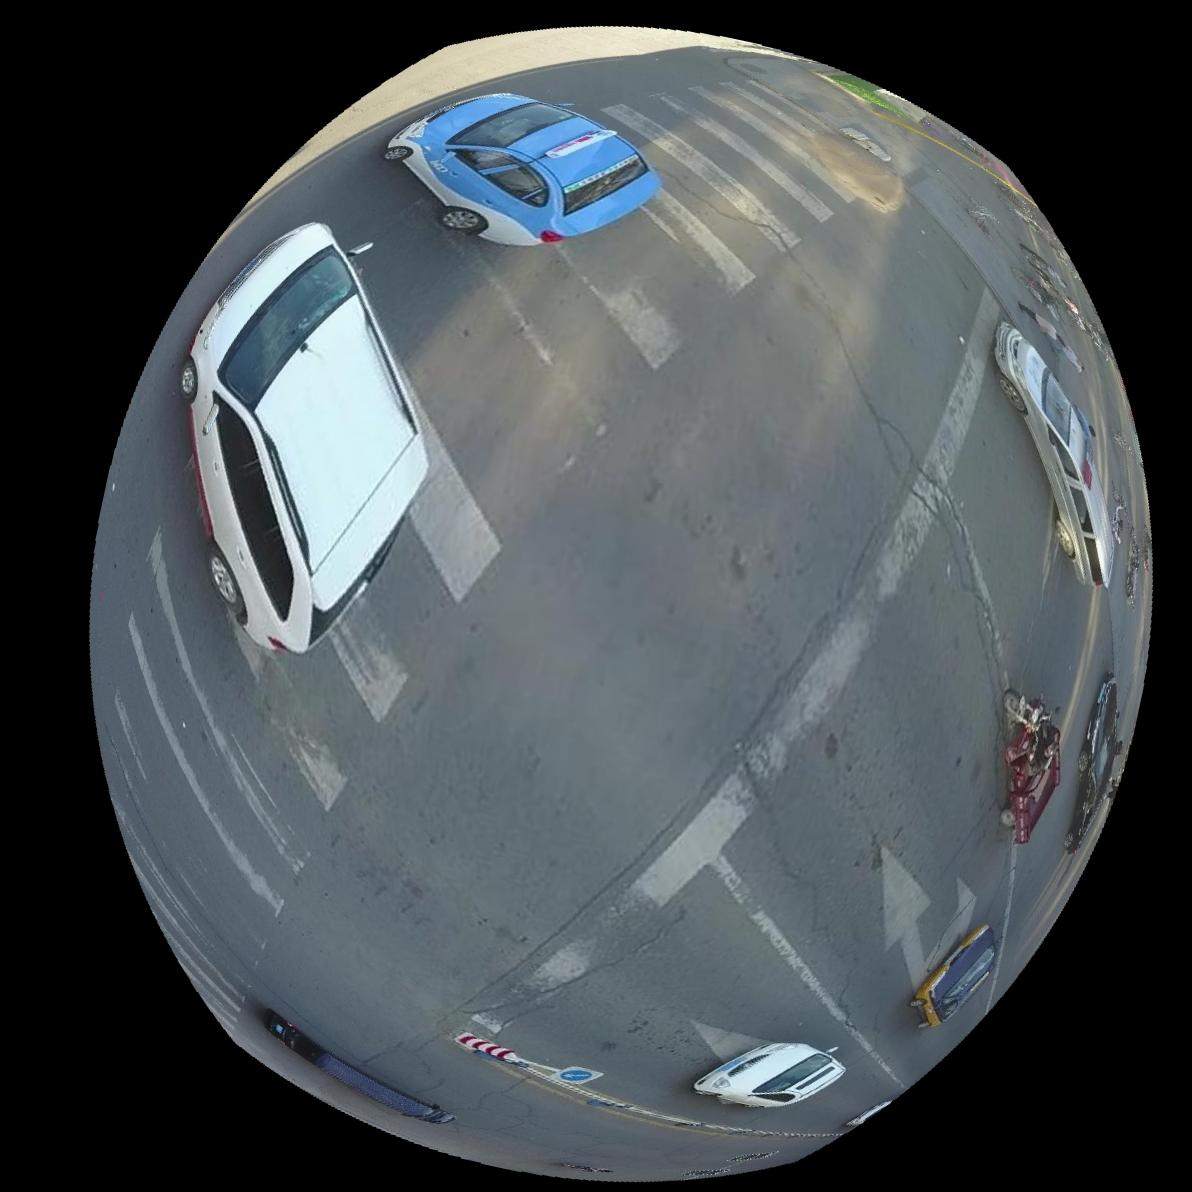cars: (177, 221, 425, 652), (382, 90, 660, 242), (993, 322, 1114, 586), (260, 1011, 452, 1125), (692, 1044, 844, 1109), (1000, 690, 1061, 845), (910, 925, 996, 1029)
